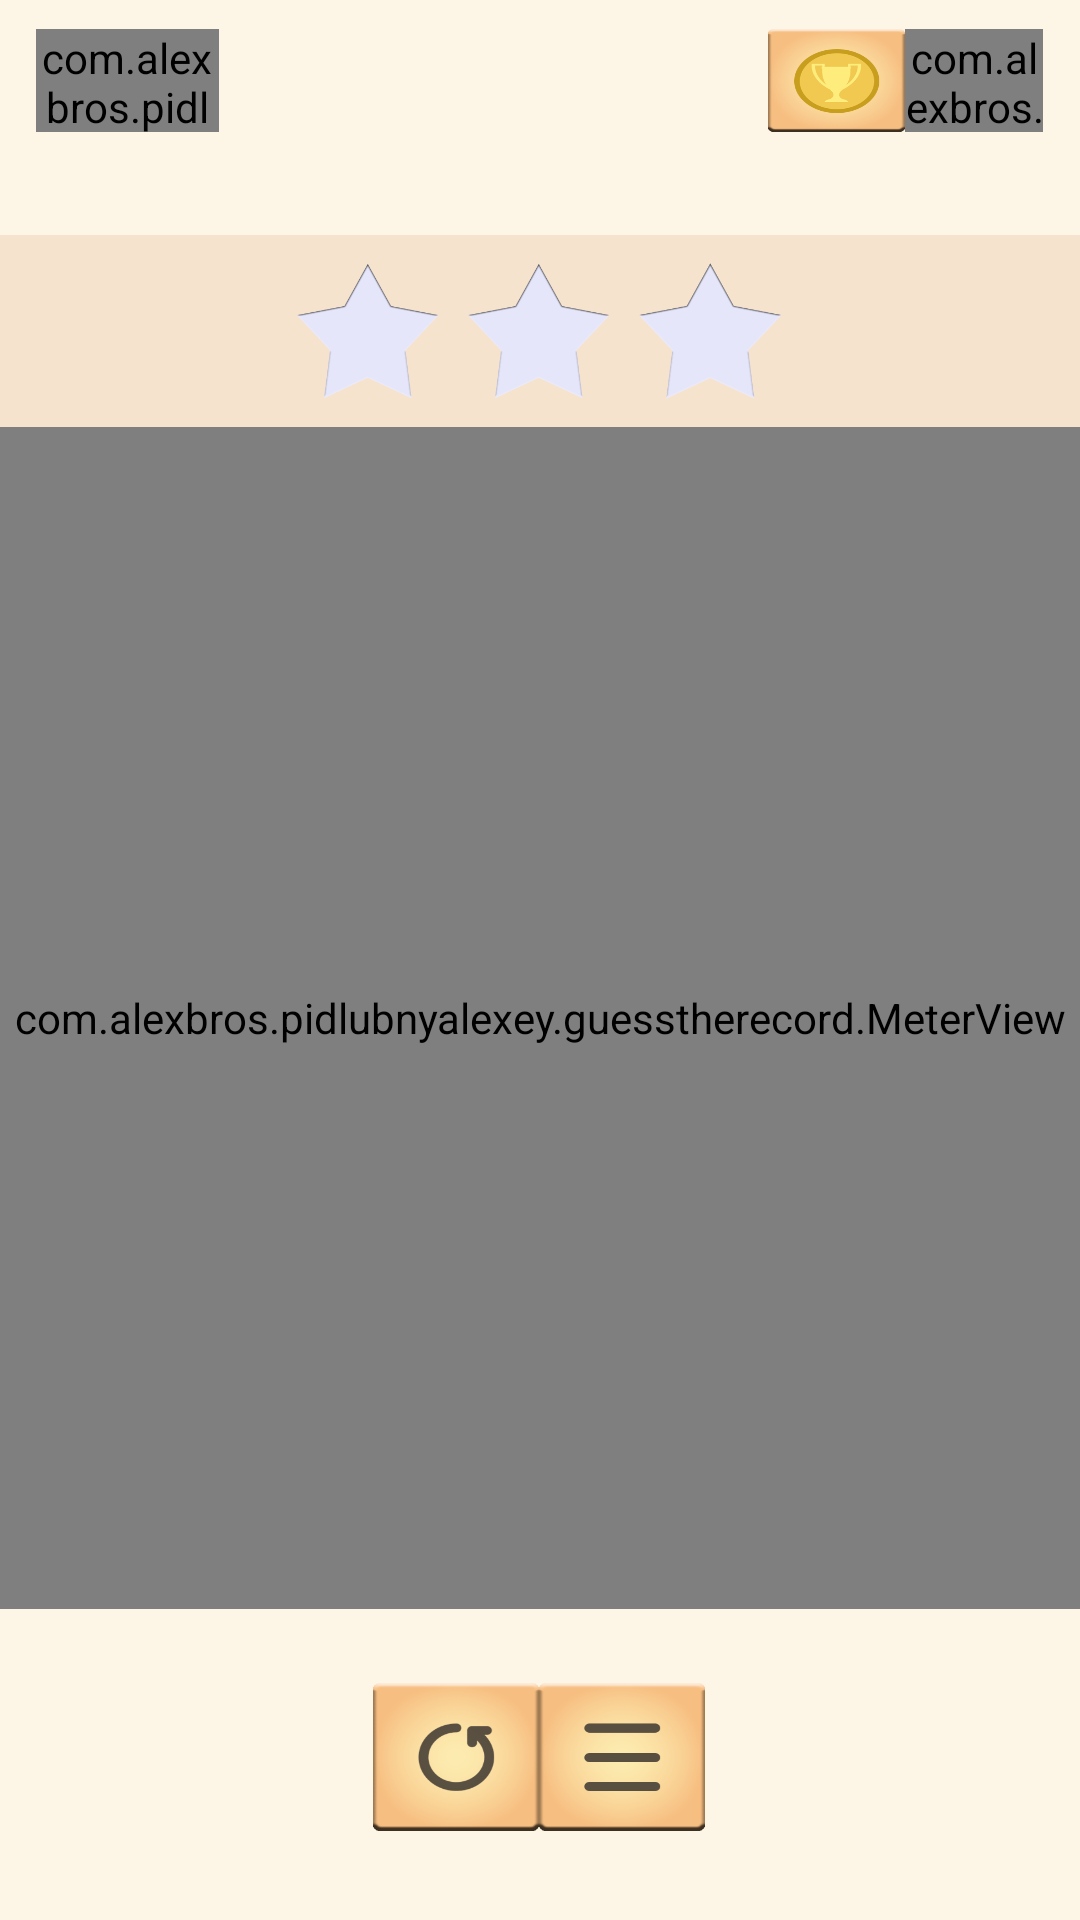

Screen size 1080w x 1920h. Icon name, then its box in pixels as box=[x1, y1, x2, y2]:
graystar: box=[640, 263, 781, 398], box=[298, 264, 438, 398], box=[469, 264, 609, 398]
menubtn: box=[539, 1684, 705, 1831]
restart: box=[373, 1684, 539, 1831]
score: box=[768, 30, 905, 132]
